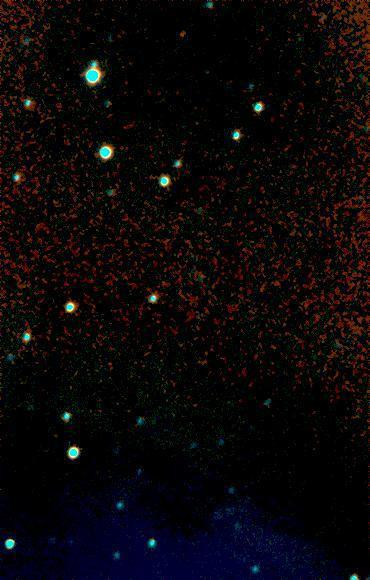star: (168, 20, 198, 50)
